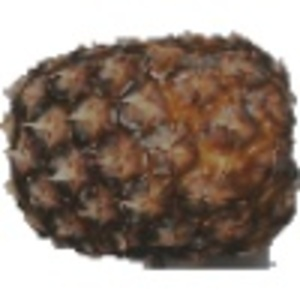abacaxi: (1, 29, 295, 256)
